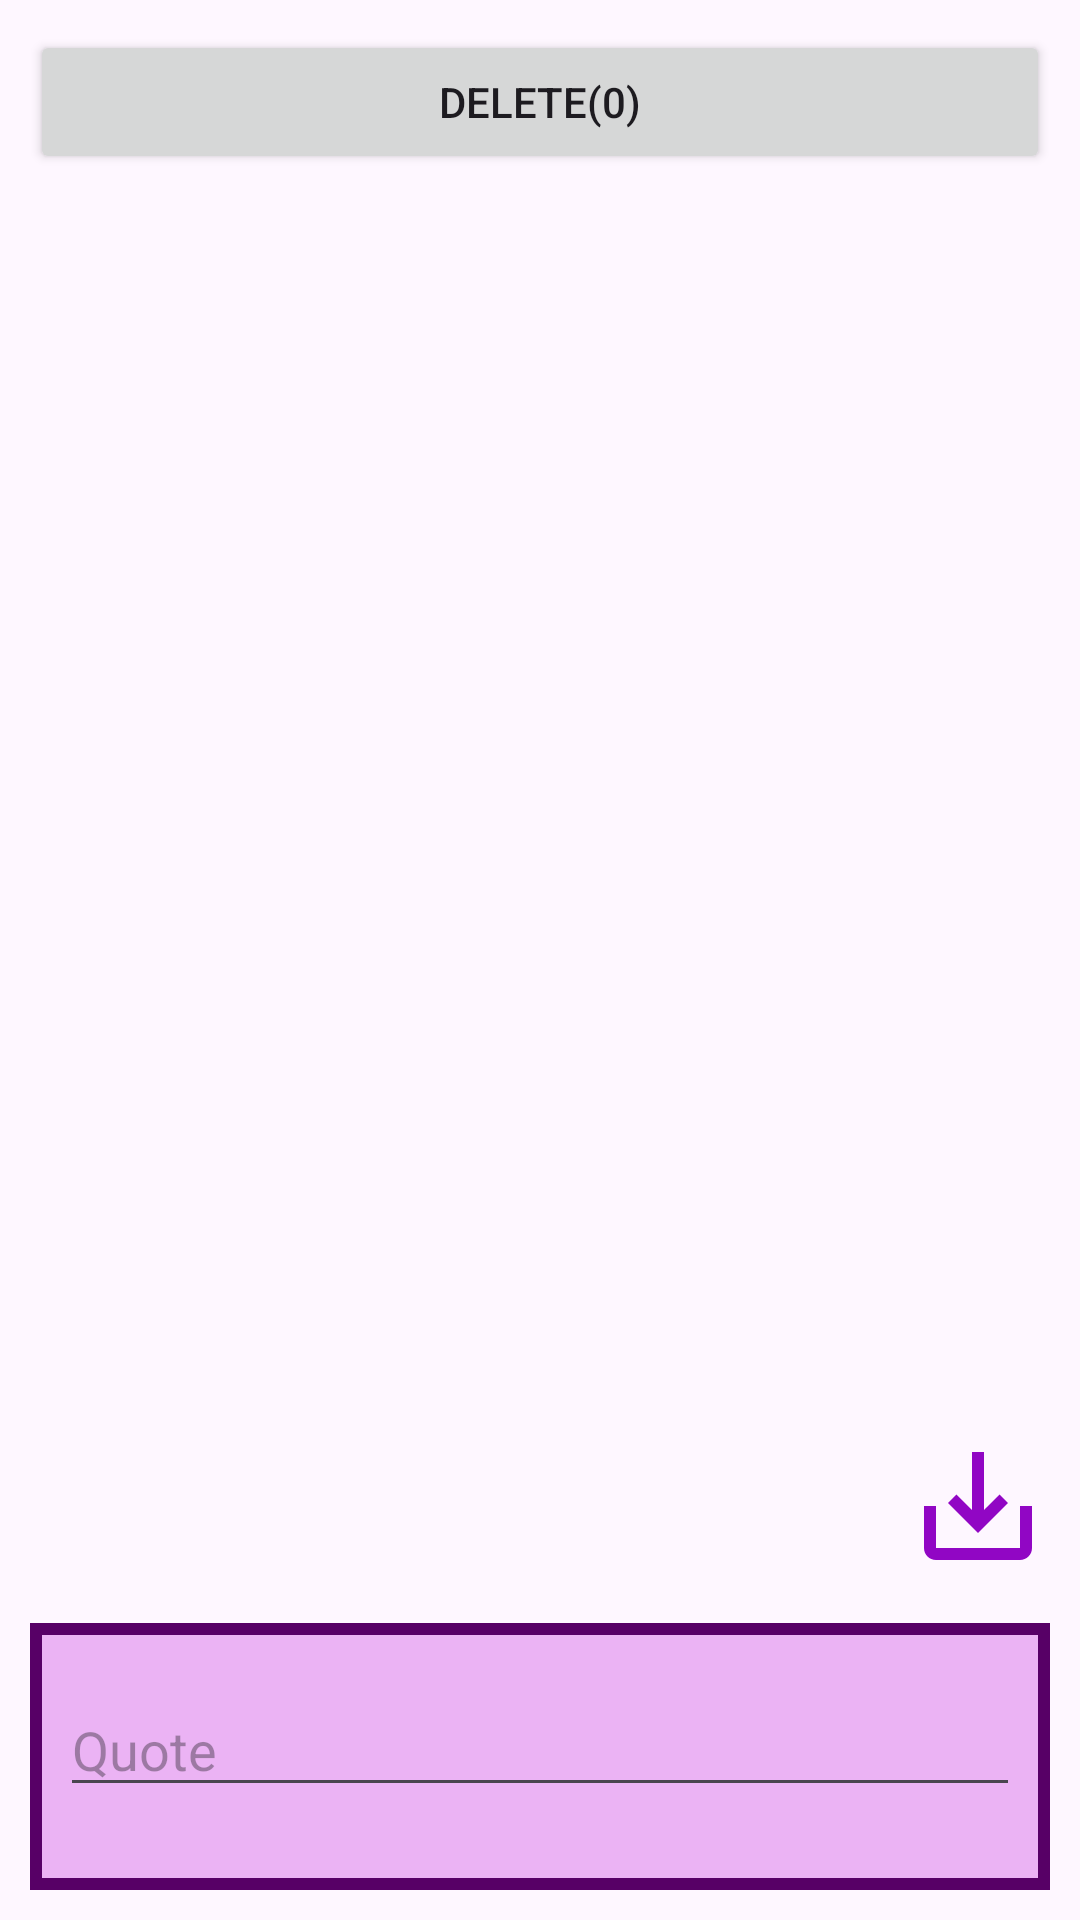

Icon click points for this 1080×1920 phone screenshot, format (x=x, y=y):
save: (x=978, y=1506)
